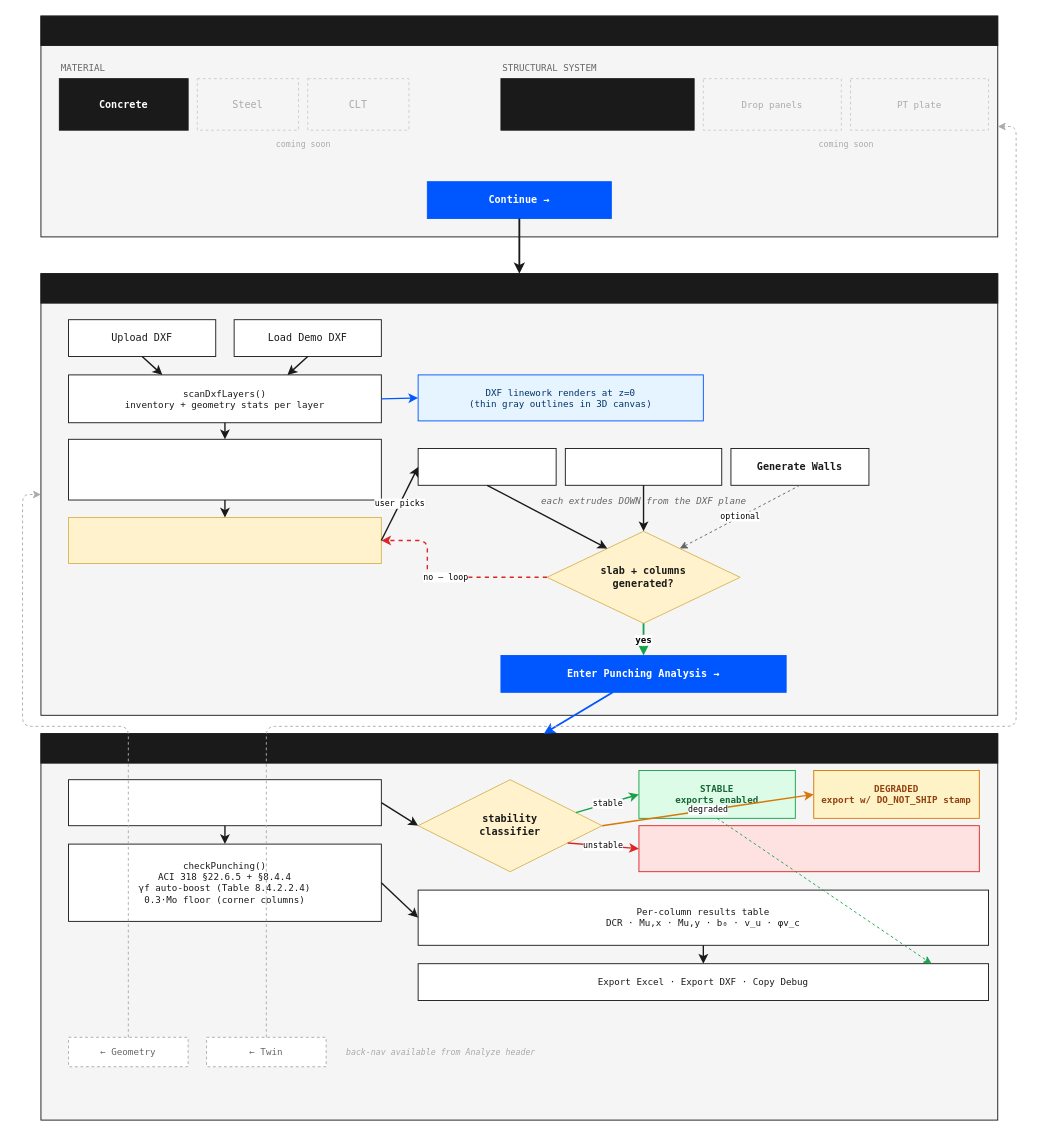
This 1040x1136 diagram has some shape labels left out. Each missing label, with the centre of its shape:
"Flat plate + shear walls + cols" goes at (597,104).
"Generate Columns" goes at (643,466).
"Generate Slab" goes at (486,466).
"Plate FEA (DKT) mesh → assemble → CG solve → recover" goes at (224,802).
"STAGE 1 · TWIN SETUP" goes at (519,30).
"STAGE 2 · GEOMETRY · Digital Twin" goes at (519,288).
"STAGE 3 · PUNCHING ANALYSIS · Workflow" goes at (519,748).
"suggestLayerMapping() smart role per layer: slab · columns · walls · ignore" goes at (224,469).
"UNSTABLE exports blocked · red banner · per-col ! glyphs" goes at (808,848).
"User can override role per layer (dropdown in floating card)" goes at (224,540).
